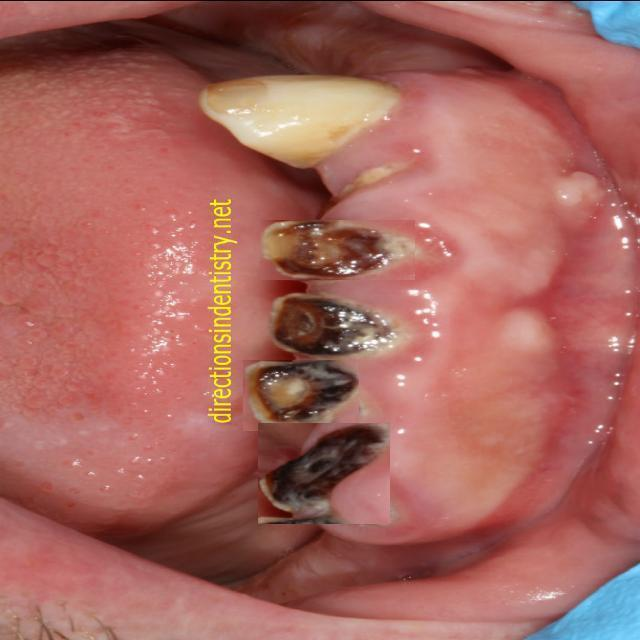decay: (258, 422, 390, 523), (260, 219, 415, 279), (243, 359, 359, 430), (274, 292, 406, 354)
